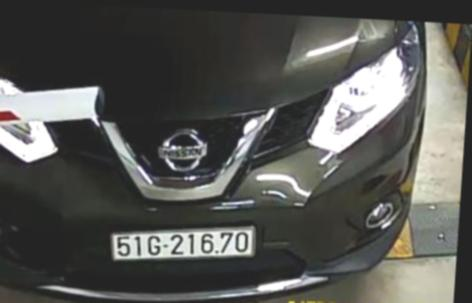License_Plate: (103, 214, 257, 270)
